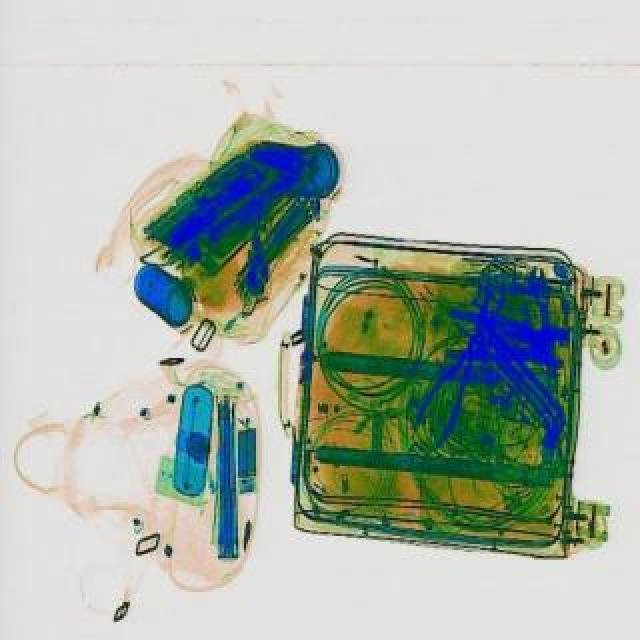scissors: (524, 266, 562, 386)
wrench: (404, 324, 496, 452), (440, 304, 572, 372)
